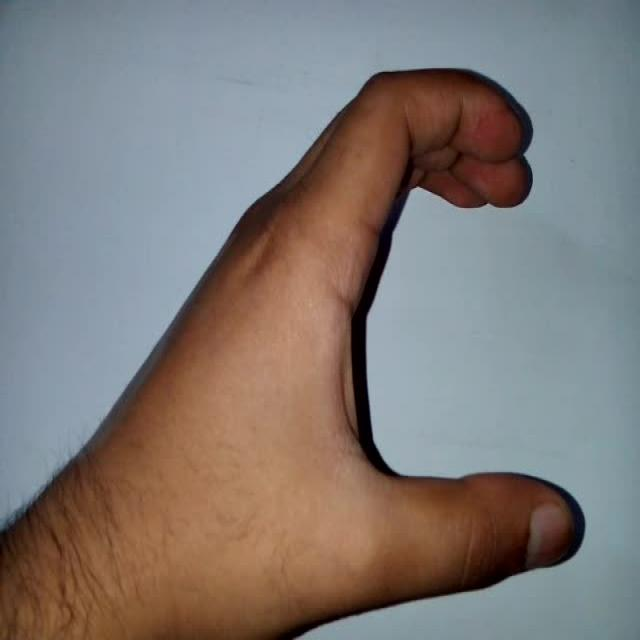C: (108, 60, 596, 634)
